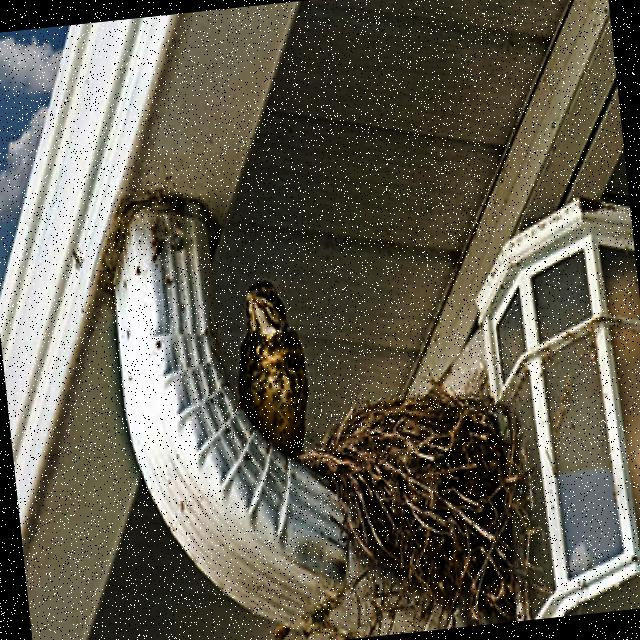bird: (225, 274, 318, 466)
